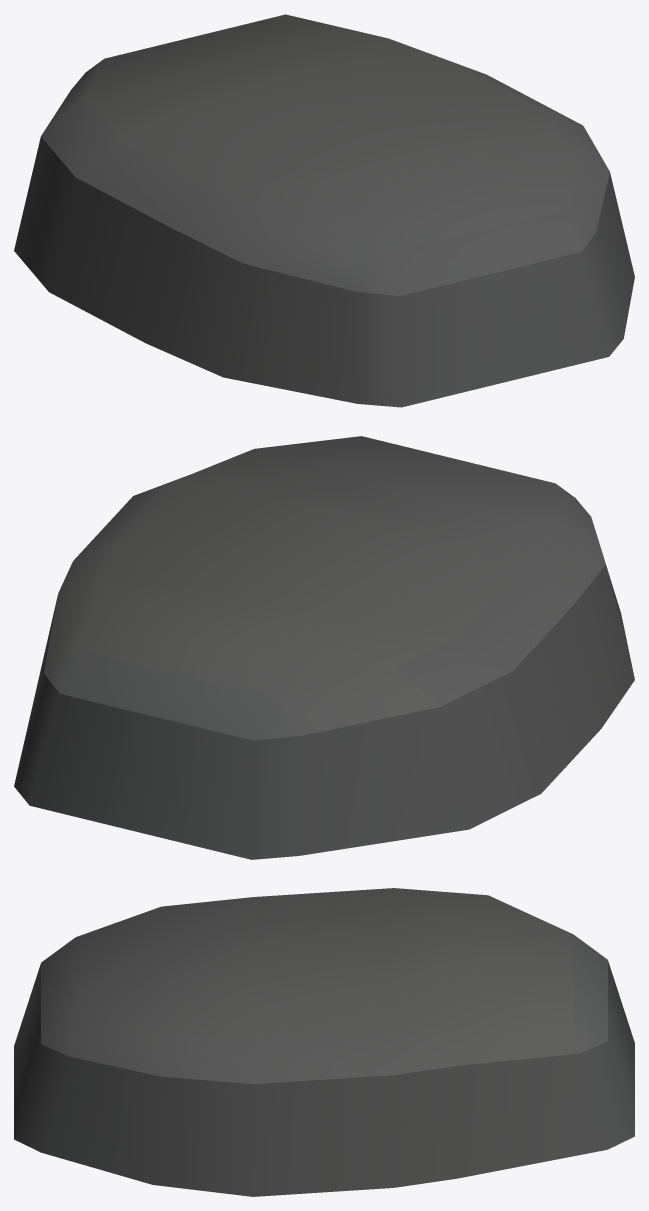
File: Brick_2_1.obj
3 views of the same model, one above another, from view 1: azimuth 30°, elevation 25°; view 2: azimuth 150°, elevation 25°; view 3: azimuth 270°, elevation 25° (orthographic). The views are drawn at different scales.
Parts seen in each view (by area): view 1: Brick_2_1; view 2: Brick_2_1; view 3: Brick_2_1.
Part boxes in pixels (left/top/right/bottom): Brick_2_1: left=14, top=14, right=634, bottom=407; Brick_2_1: left=14, top=436, right=634, bottom=859; Brick_2_1: left=14, top=888, right=634, bottom=1196.
Bounding box in the file's own units: 0.2486 × 0.0674 × 0.3014.
